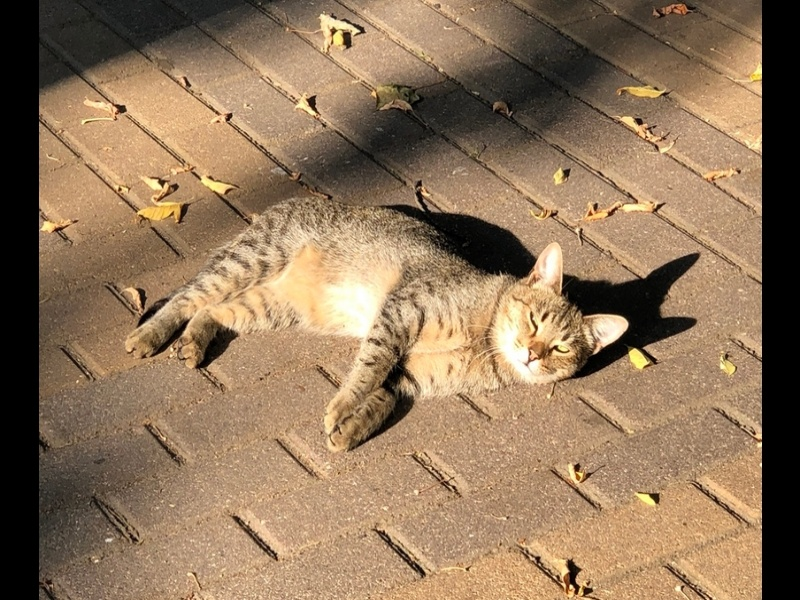cat: (122, 194, 635, 458)
